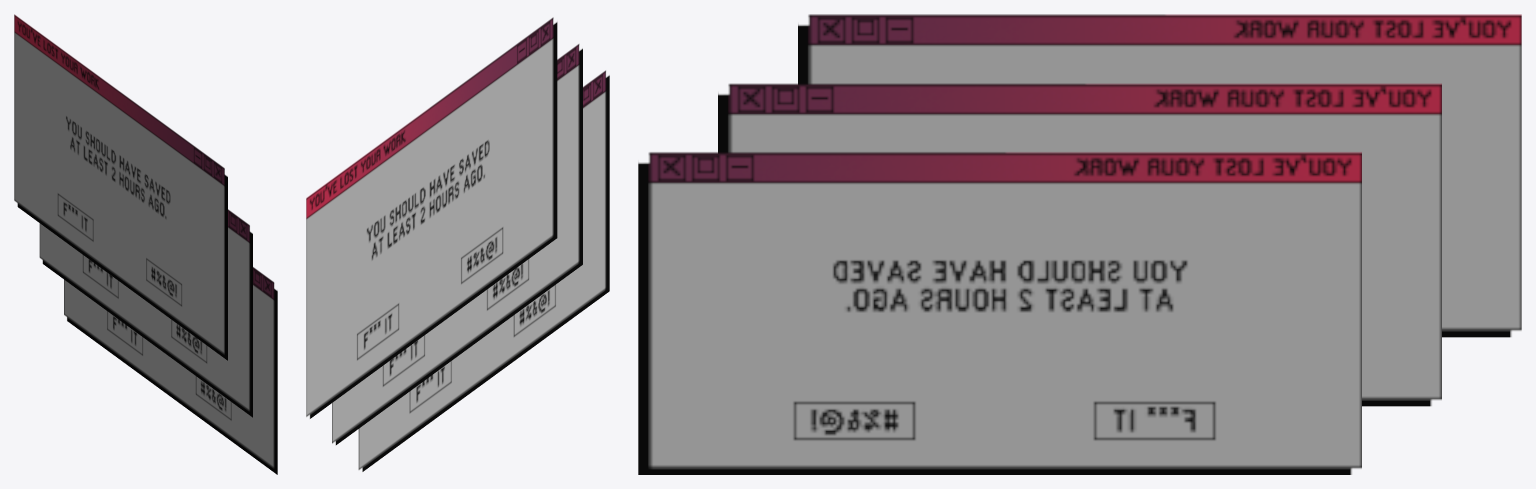
Rendered from Frame_Program_Retro_06.glb.
The picture shows the model from 3 angles, left to right: view 1: azimuth 30°, elevation 25°; view 2: azimuth 150°, elevation 25°; view 3: azimuth 270°, elevation 25°; orthographic projection. The views are drawn at different scales.
Parts seen in each view (by area): view 1: Frame_Program_Retro_06; view 2: Frame_Program_Retro_06; view 3: Frame_Program_Retro_06.
Part boxes in pixels (box(x1,y1,x2,y2)): Frame_Program_Retro_06: box(14, 14, 277, 474); Frame_Program_Retro_06: box(306, 17, 609, 471); Frame_Program_Retro_06: box(638, 14, 1521, 474).
Size of the model in its own units: 0.023 by 2.48 by 4.33.
Materials: 1 (1 with a texture image).
